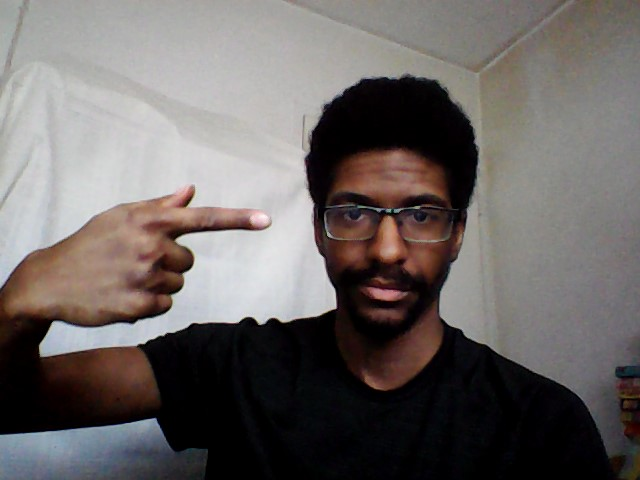g: (37, 181, 276, 330)
